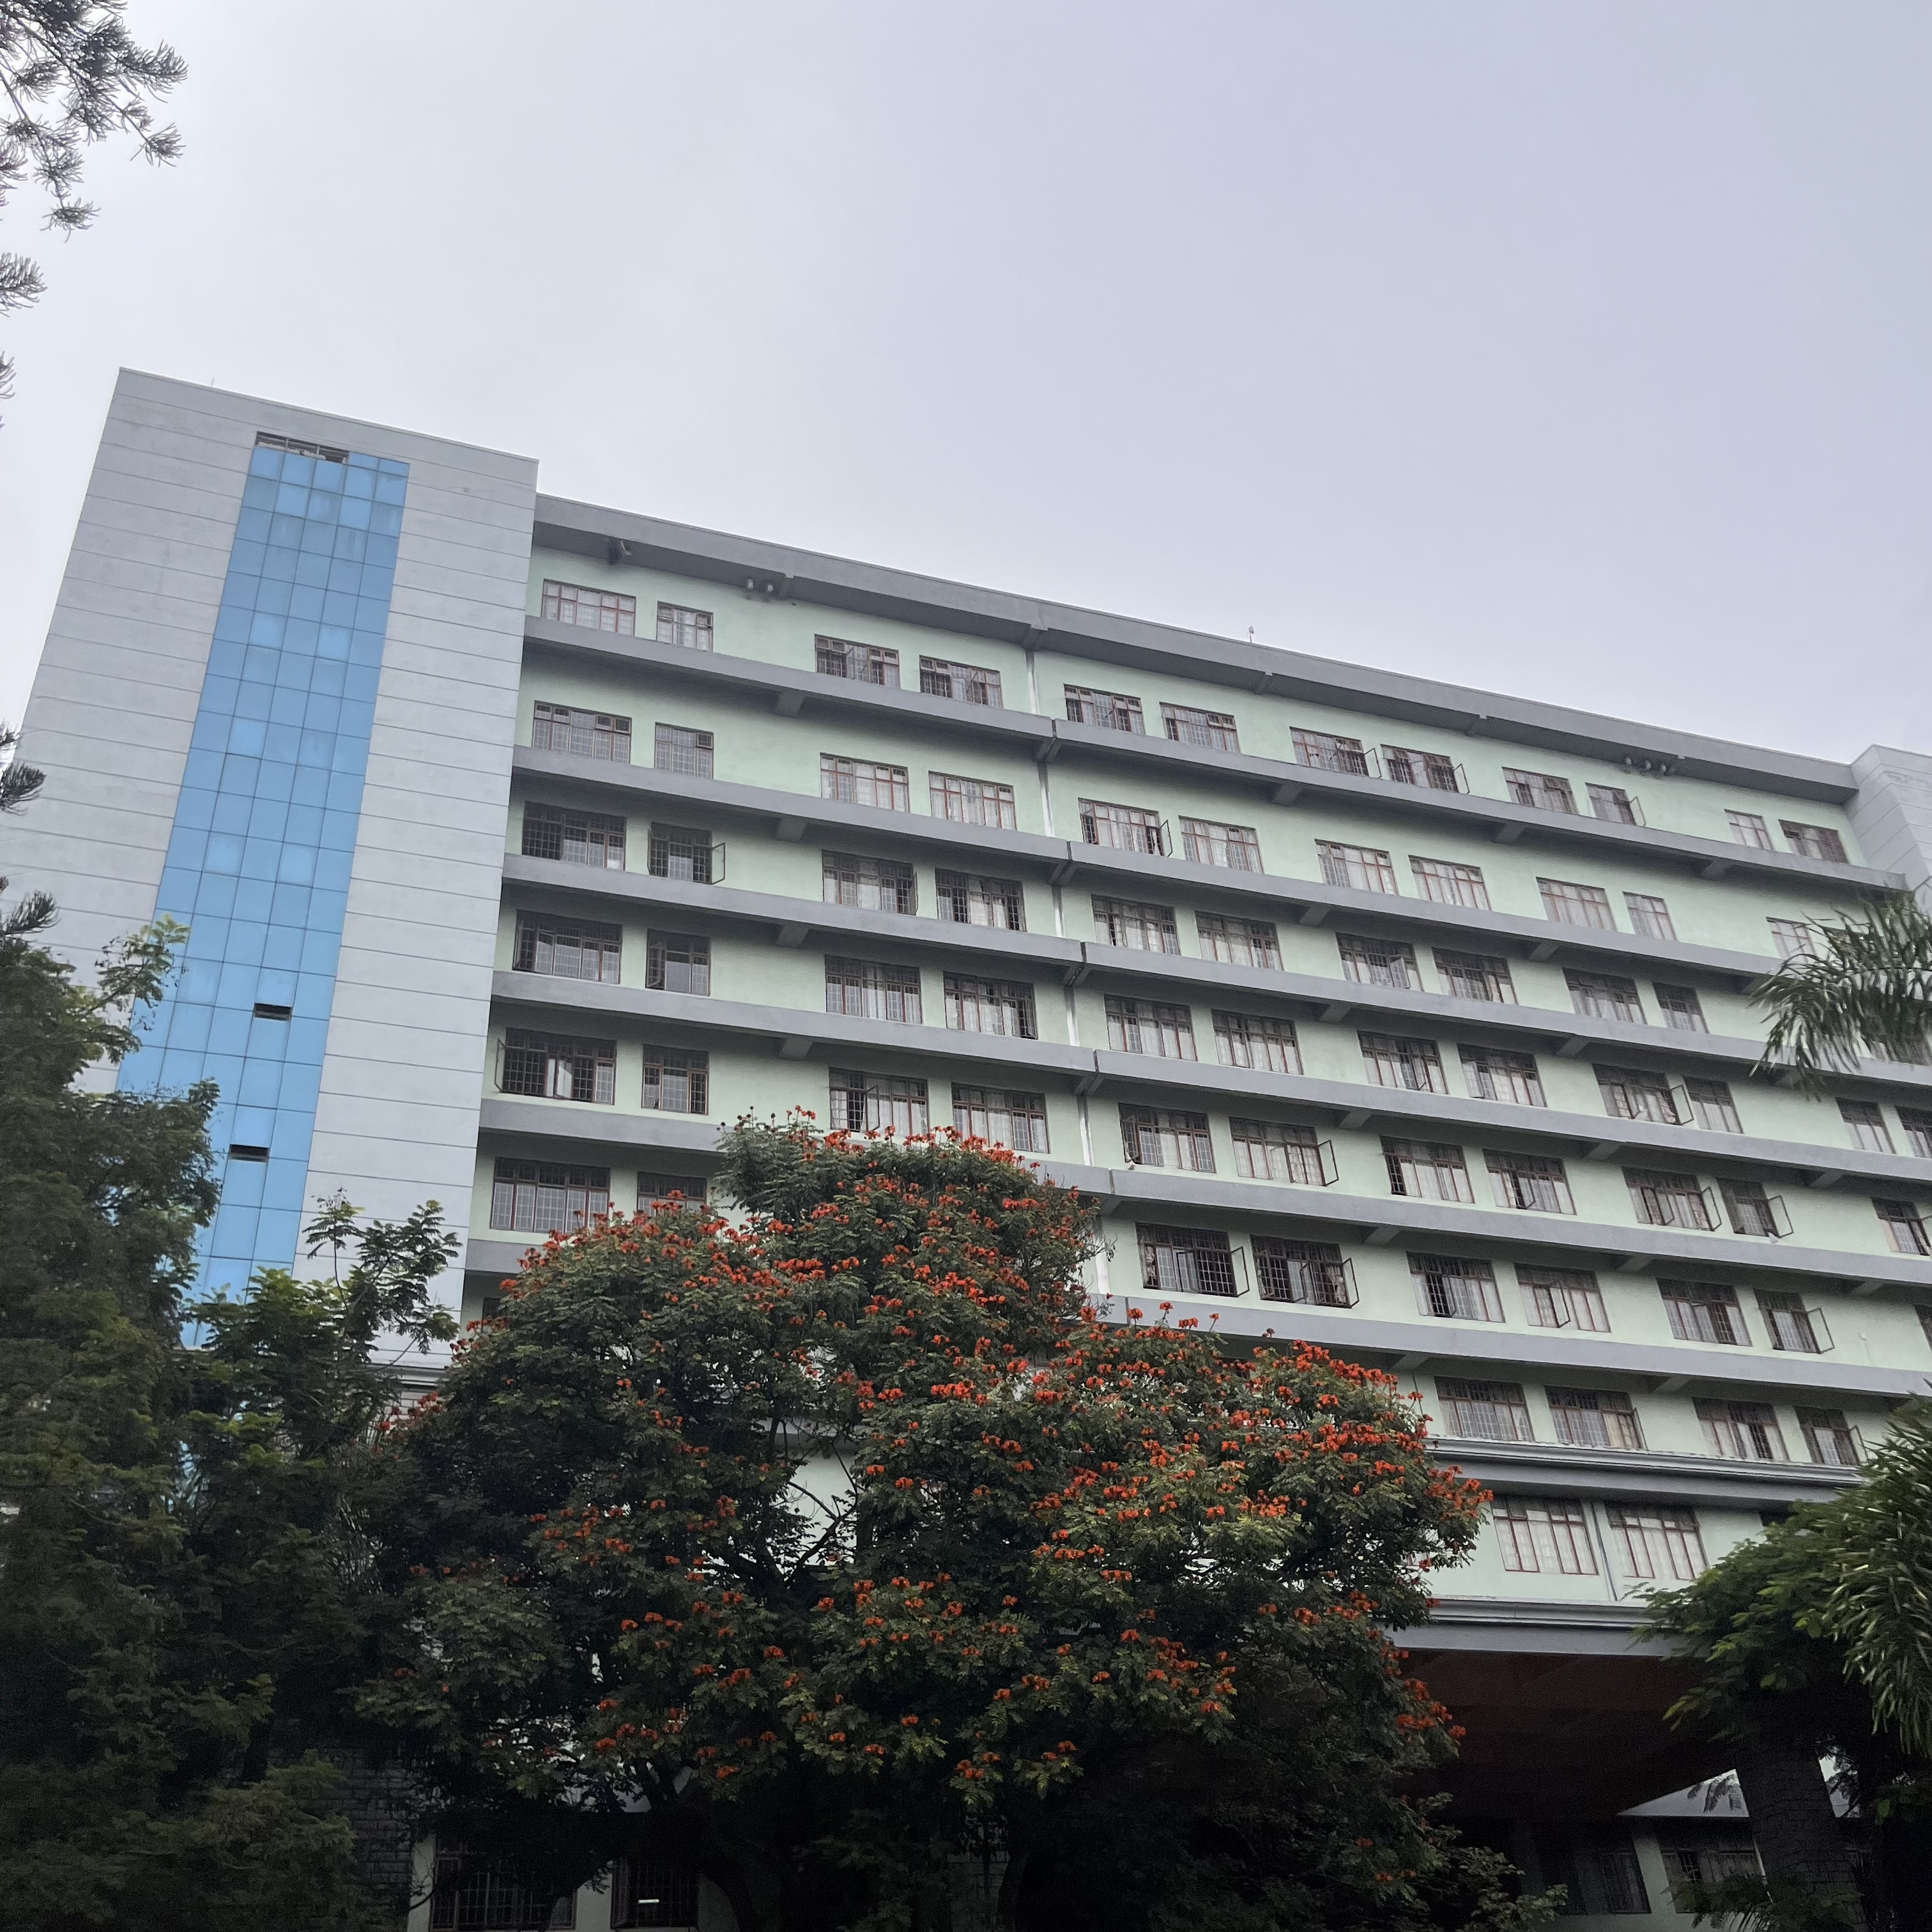Central Block: (48, 285, 1932, 1686)
